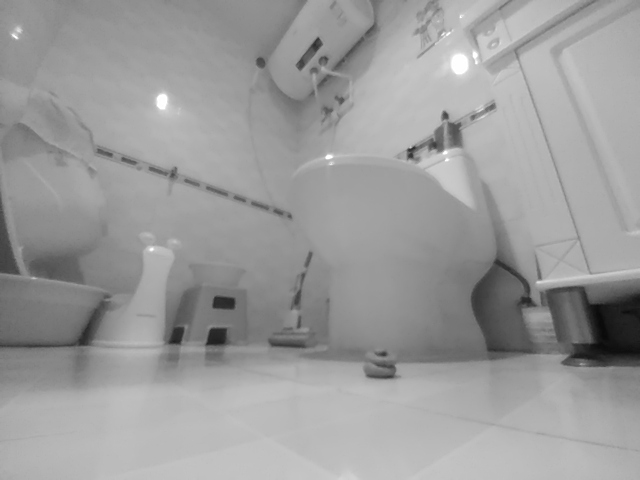pet feces: (364, 347, 398, 379)
